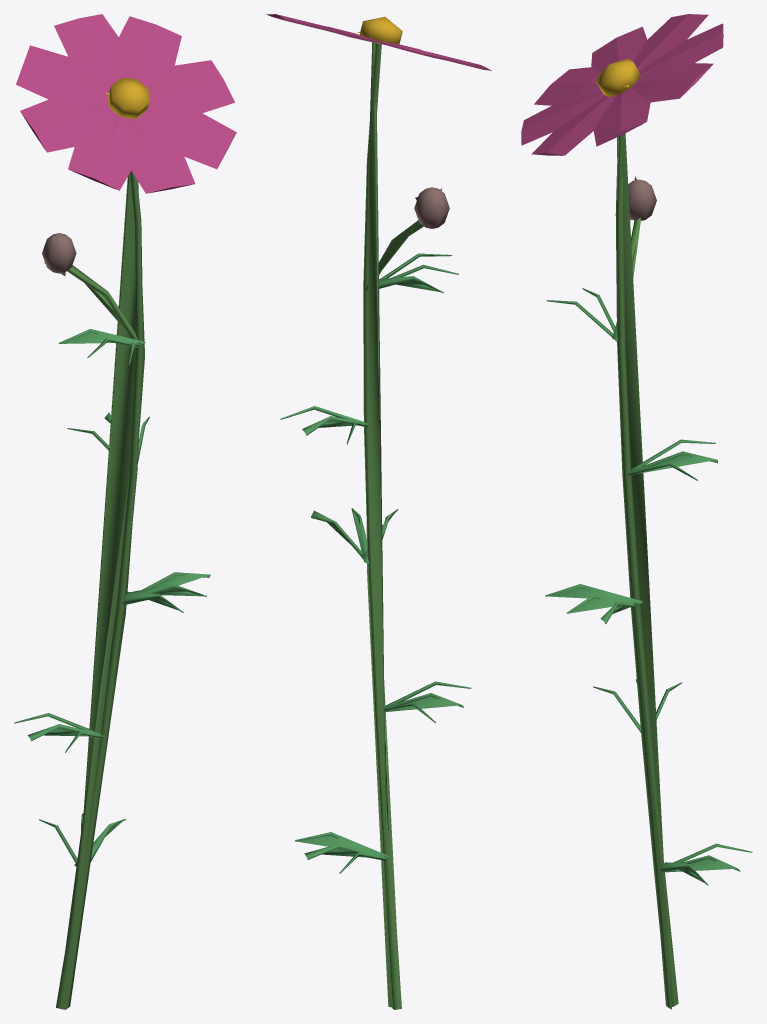
Rendered from cosmos_magenta.glb.
3 renders of one model, left to right at view 1: azimuth 30°, elevation 25°; view 2: azimuth 150°, elevation 25°; view 3: azimuth 270°, elevation 25°, orthographic. The views are drawn at different scales.
Visible parts, largest first — view 1: petal_magenta_nl, body__far, stem, center_yellow_nl; view 2: body__far, stem, petal_magenta_nl, center_yellow_nl; view 3: petal_magenta_nl, body__far, stem, center_yellow_nl, leaf_nl.
Boxes of the visible parts, x1,y1,x2,y2 form: petal_magenta_nl: [16, 14, 236, 273]; body__far: [14, 16, 228, 1009]; stem: [56, 171, 142, 1009]; center_yellow_nl: [108, 78, 149, 118]; body__far: [271, 16, 471, 1007]; stem: [363, 42, 423, 1009]; petal_magenta_nl: [266, 14, 491, 228]; center_yellow_nl: [359, 16, 402, 44]; petal_magenta_nl: [521, 14, 723, 220]; body__far: [522, 14, 752, 1009]; stem: [615, 135, 678, 1006]; center_yellow_nl: [595, 59, 640, 96]; leaf_nl: [545, 451, 740, 885].
Bounding box in the file's own units: 6.45 × 30.64 × 6.46.
